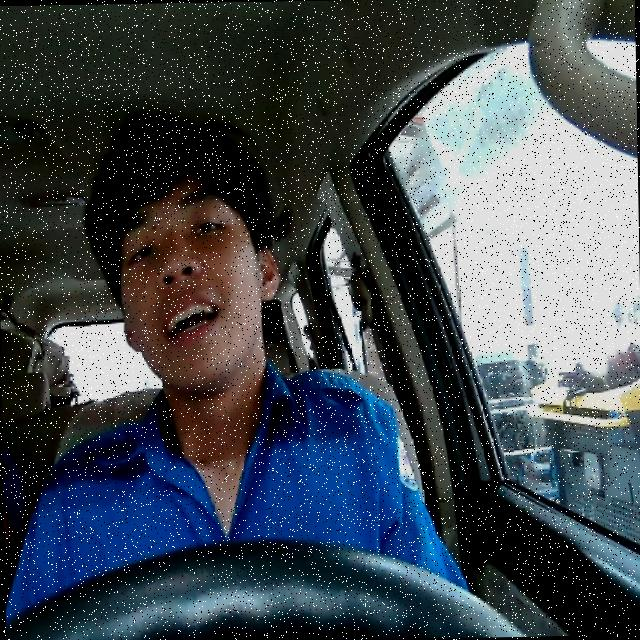yarning: (116, 164, 279, 390)
